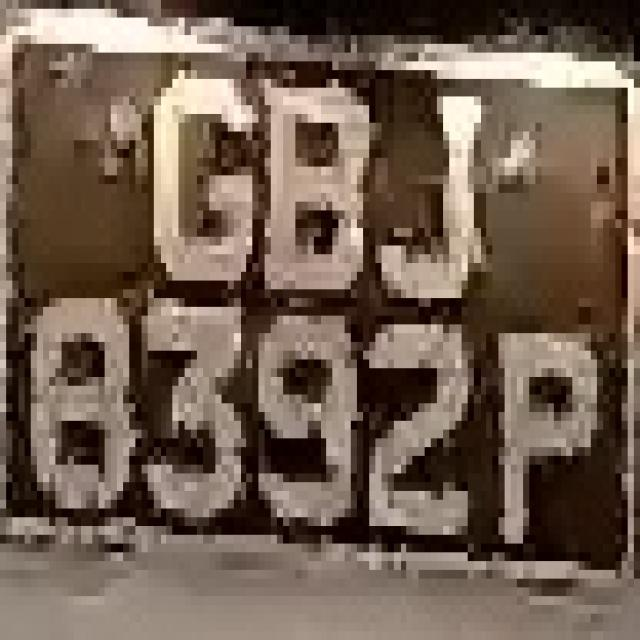2: (370, 307, 492, 552)
3: (142, 280, 258, 534)
8: (19, 281, 136, 508)
9: (246, 316, 363, 526)
B: (252, 79, 376, 298)
G: (142, 52, 258, 316)
J: (376, 62, 504, 316)
P: (474, 316, 609, 552)
